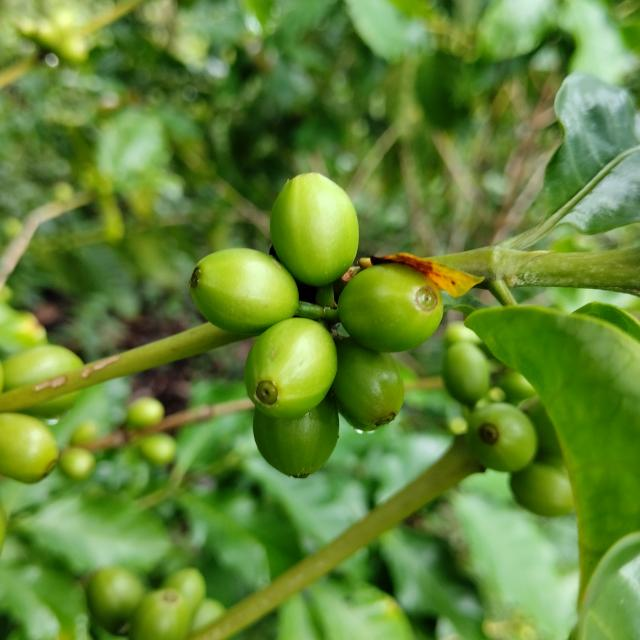green: (270, 172, 359, 287), (189, 248, 299, 335), (244, 318, 338, 419), (338, 263, 444, 352), (253, 396, 339, 479), (331, 338, 405, 432), (466, 403, 539, 472), (0, 413, 58, 484), (2, 345, 82, 391), (19, 392, 77, 418)
